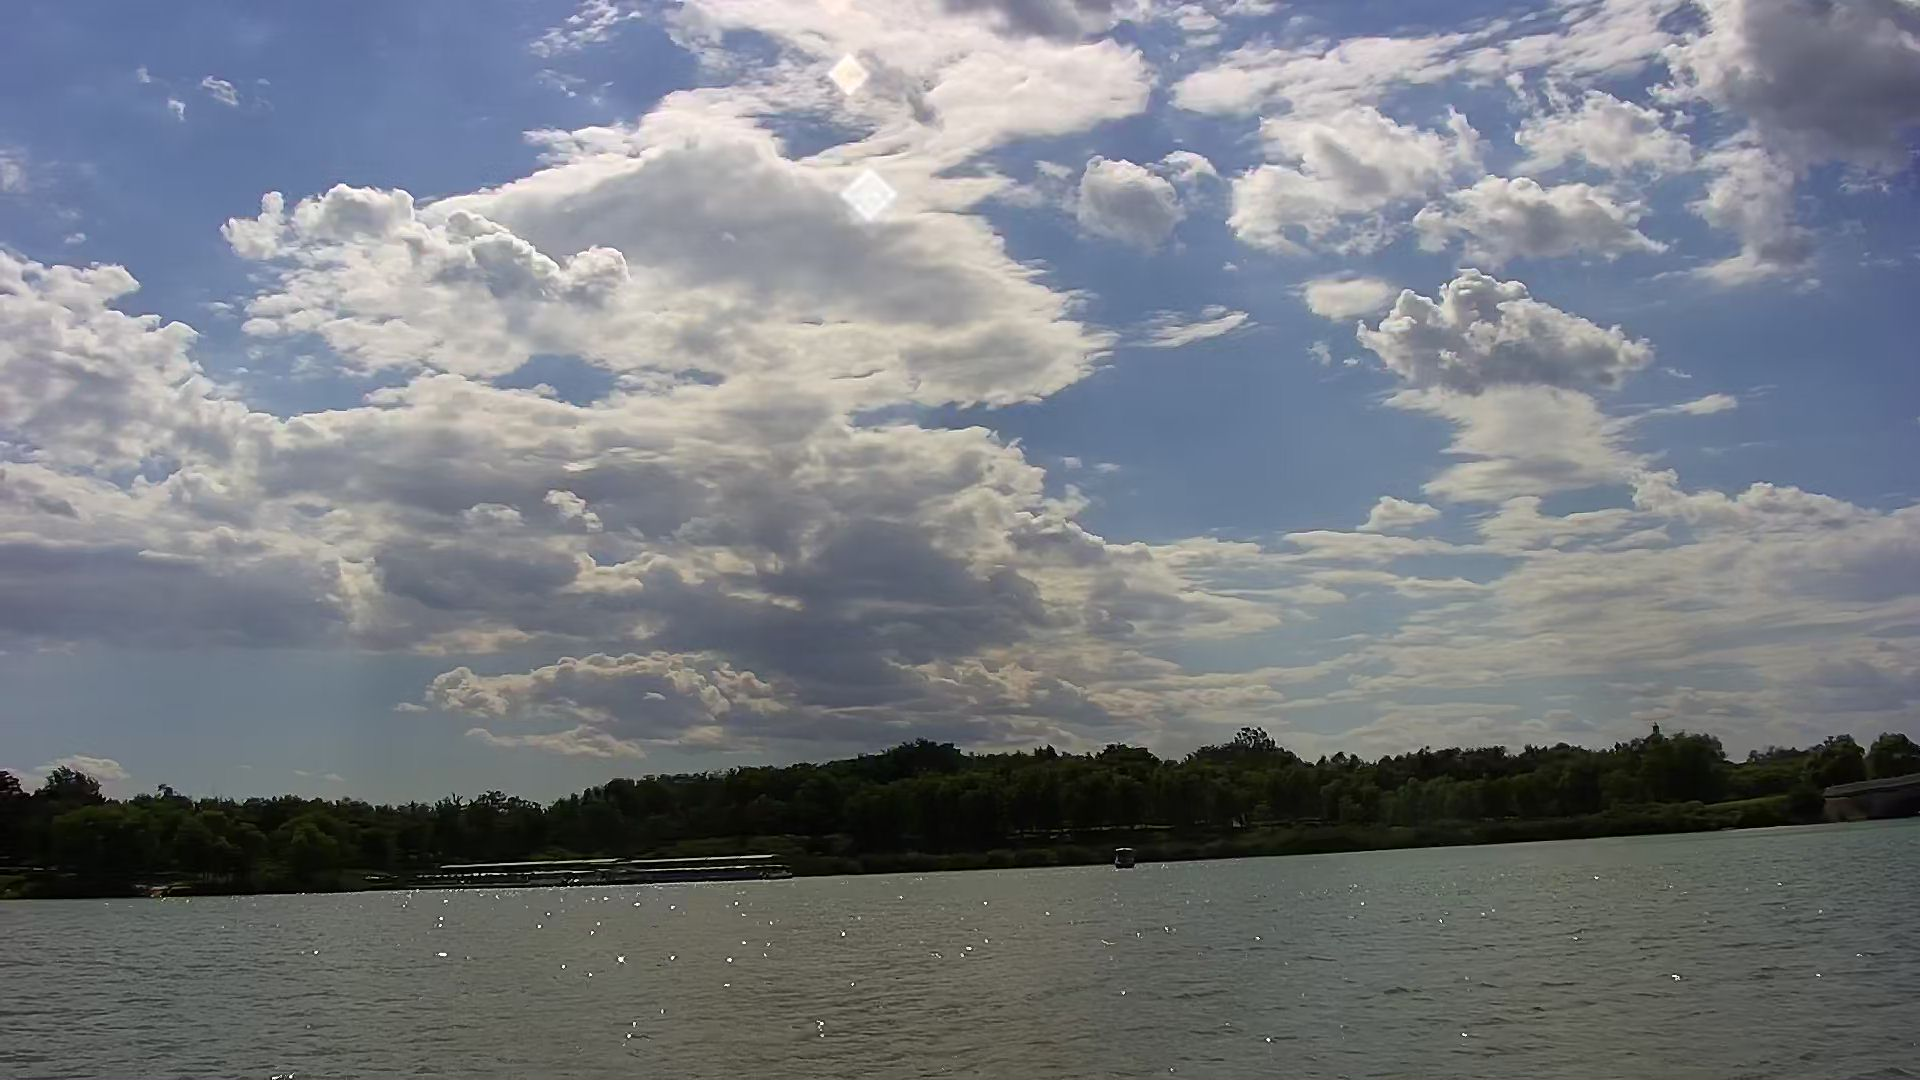boat: (1112, 841, 1138, 870)
bridge: (1826, 770, 1920, 823)
harbor: (423, 849, 789, 891)
